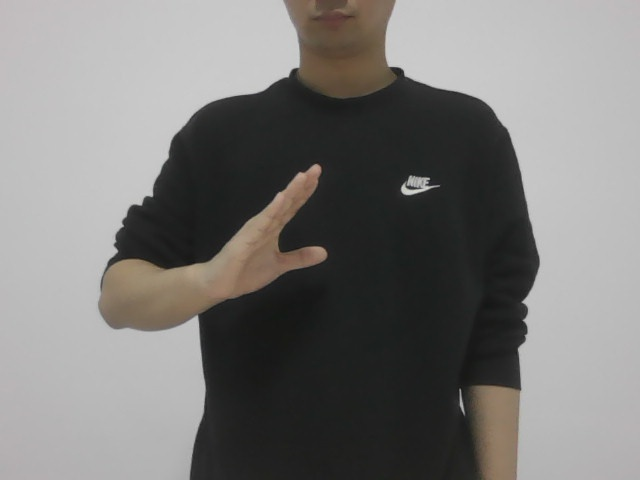morning: (205, 163, 341, 299)
